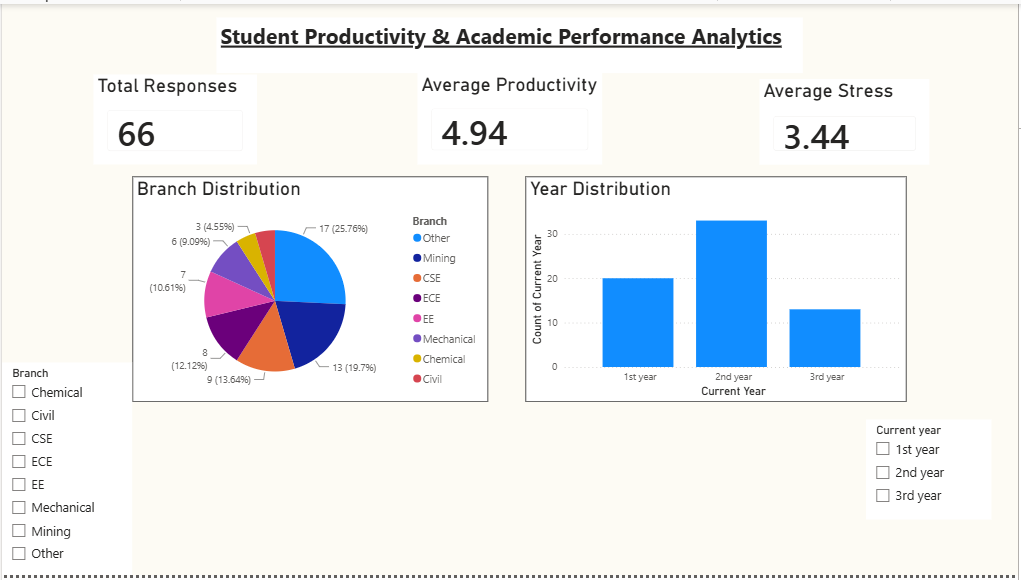

Layout of this report page (visuals, bound fields, positions):
{"tool":"powerbi","page":{"name":"OVERVIEW","canvas":[1280,720],"ordinal":0},"visuals":[{"type":"textbox","box":[270.2,17,738.9,69.9],"z":0},{"type":"cardVisual","title":"Total Responses","fields":{"Data":["CountNonNull(Form_Responses.Timestamp)"]},"box":[115.3,88.8,206,119.1],"z":1000},{"type":"cardVisual","title":"Average Productivity","fields":{"Data":["Avg(Form_Responses.Q18. How productive do you consider yourself)"]},"box":[523.5,86.9,232.4,115.3],"z":2000},{"type":"cardVisual","title":"Average Stress","fields":{"Data":["Avg(Form_Responses.Q14. Rate your academic stress)"]},"box":[954,94,214,108],"z":3000},{"type":"pieChart","title":"Branch Distribution","fields":{"Category":["Form_Responses.Q2. Branch"],"Y":["CountNonNull(Form_Responses.Q2. Branch)"]},"box":[164,218,448,284],"z":4000},{"type":"clusteredColumnChart","title":"Year Distribution","fields":{"Category":["Form_Responses.Q3. Current year"],"Y":["CountNonNull(Form_Responses.Q3. Current year)"]},"box":[660,218,480,284],"z":5000},{"type":"slicer","fields":{"Values":["Form_Responses.Q2. Branch"]},"box":[0,452,164,268],"z":6000},{"type":"slicer","fields":{"Values":["Form_Responses.Q3. Current year"]},"box":[1088,524,158,126],"z":7000}]}

Visuals, with their boxes in screenshot pixels (x1, y1, x2, y2), scaled from the page's 1280x720 canvas onto the 1021x580 screenshot:
textbox: x1=216, y1=14, x2=805, y2=70
"Total Responses" cardVisual: x1=92, y1=72, x2=256, y2=167
"Average Productivity" cardVisual: x1=418, y1=70, x2=603, y2=163
"Average Stress" cardVisual: x1=761, y1=76, x2=932, y2=163
"Branch Distribution" pieChart: x1=131, y1=176, x2=488, y2=404
"Year Distribution" clusteredColumnChart: x1=526, y1=176, x2=909, y2=404
slicer - Form_Responses.Q2. Branch: x1=0, y1=364, x2=131, y2=579
slicer - Form_Responses.Q3. Current year: x1=868, y1=422, x2=994, y2=524
